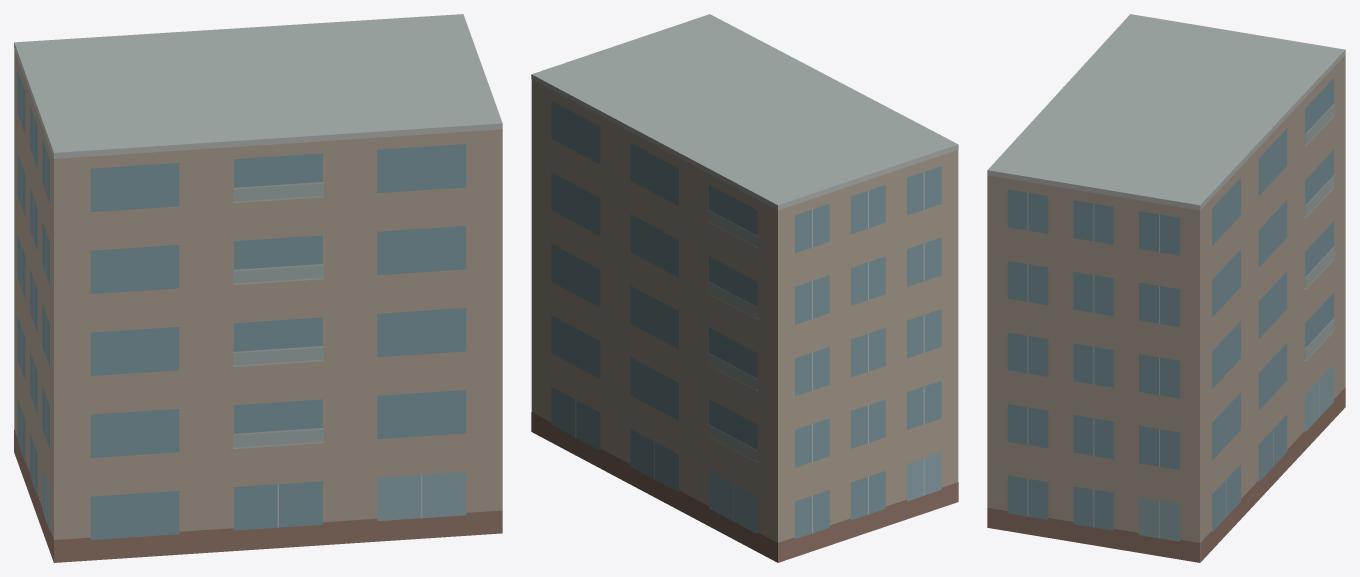
File: survey-upis-32985545.glb
3 views of the same model, side by side, from view 1: azimuth 30°, elevation 25°; view 2: azimuth 150°, elevation 25°; view 3: azimuth 270°, elevation 25° (orthographic). The views are drawn at different scales.
Parts seen in each view (by area): view 1: survey-upis-32985545.tmp; view 2: survey-upis-32985545.tmp; view 3: survey-upis-32985545.tmp.
Part boxes in pixels (left/top/right/bottom): survey-upis-32985545.tmp: left=14, top=14, right=502, bottom=562; survey-upis-32985545.tmp: left=531, top=14, right=958, bottom=562; survey-upis-32985545.tmp: left=987, top=14, right=1345, bottom=562.
Bounding box in the file's own units: 19.34 × 16.85 × 15.3.
